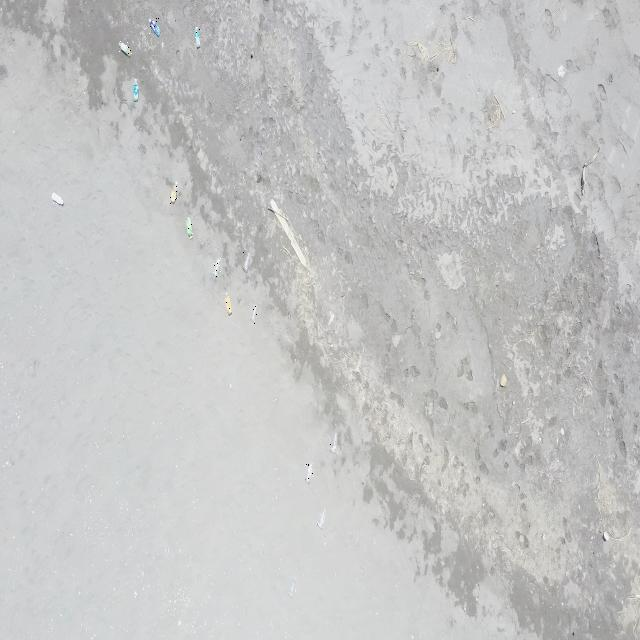plastic-bottle: (118, 41, 132, 57), (170, 180, 178, 204), (149, 18, 160, 34), (52, 192, 64, 206), (226, 292, 233, 316), (186, 217, 193, 238), (133, 78, 139, 102), (195, 26, 201, 49)
takeaway-cup: (317, 509, 326, 530), (330, 432, 338, 455), (212, 258, 221, 278), (288, 578, 296, 599), (242, 252, 250, 273), (306, 464, 314, 484), (250, 304, 258, 324)
